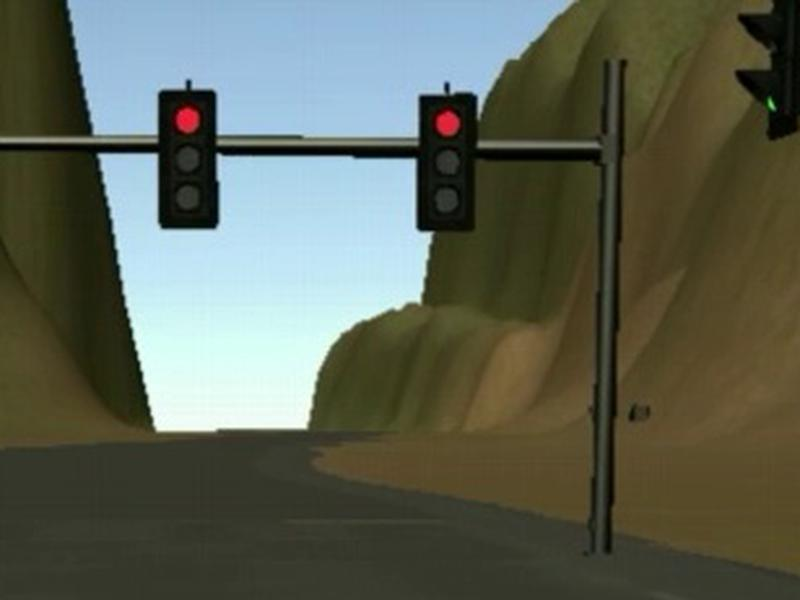Red: (157, 91, 220, 228), (417, 91, 478, 231)
